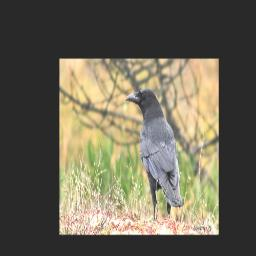Crow: (126, 88, 184, 224)
